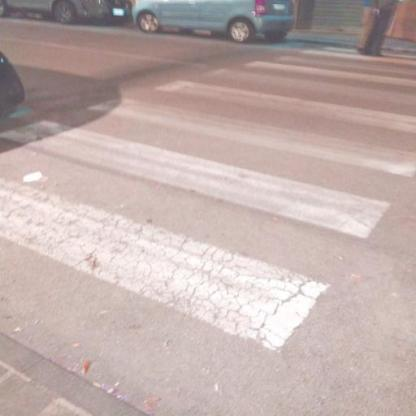crosswalk: (0, 115, 392, 354)
